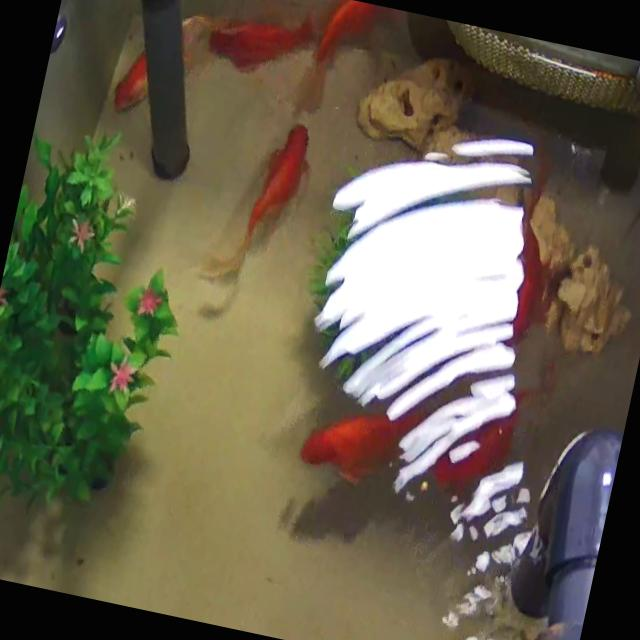fish: (280, 378, 423, 524), (215, 113, 309, 313), (478, 166, 565, 342), (293, 0, 396, 122), (120, 10, 205, 116), (205, 0, 310, 63)
